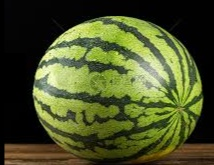watermelon: (33, 16, 201, 163)
